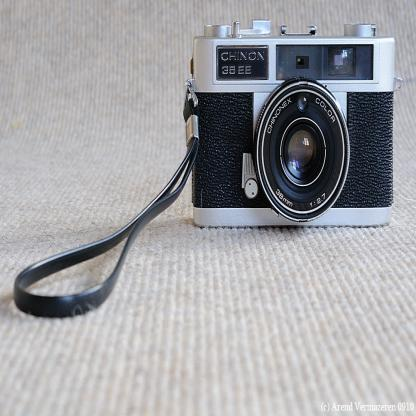Camera: (192, 24, 403, 227)
